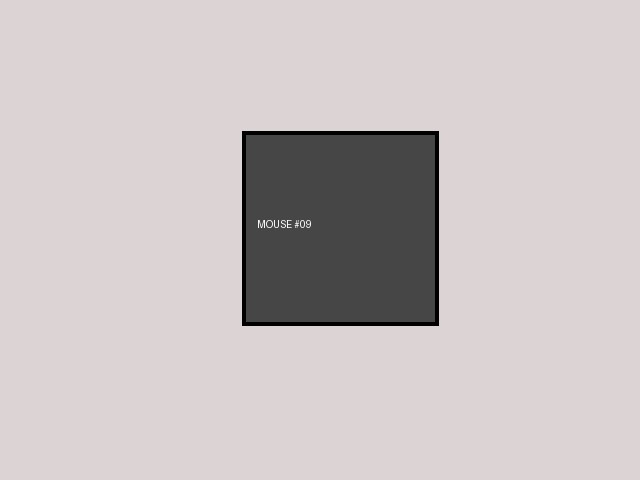mouse: (242, 131, 438, 325)
